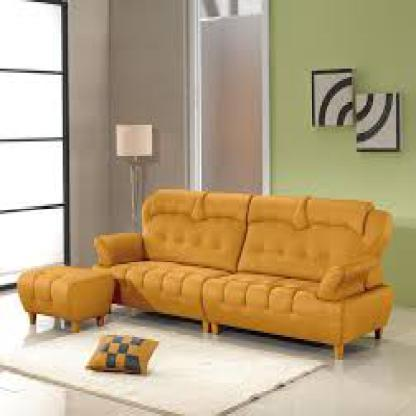sofa: (25, 190, 386, 346)
